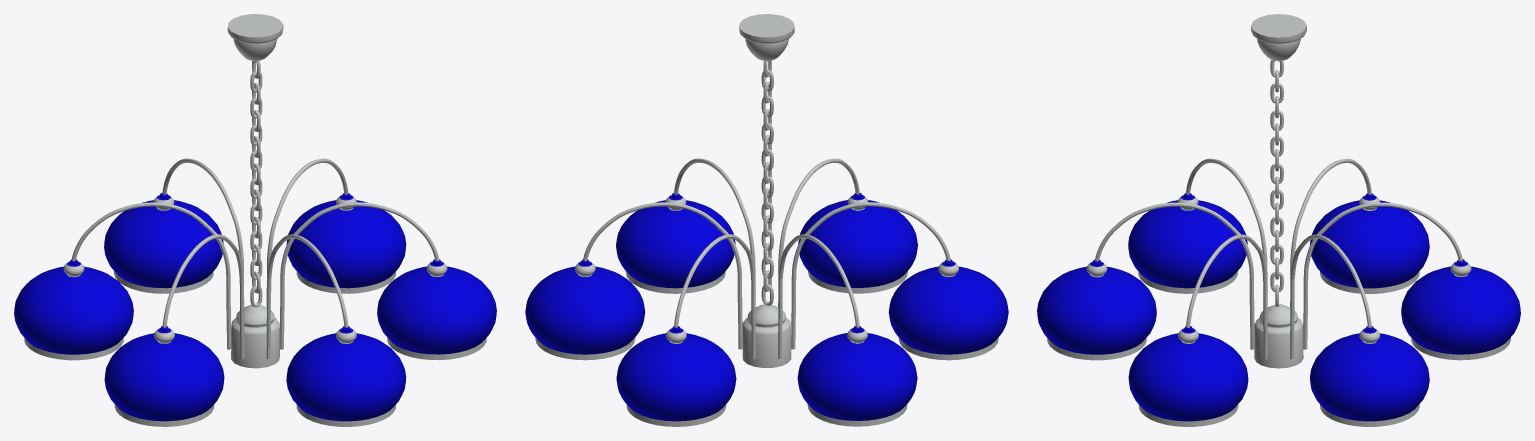
The model's file is Light.fbx.
3 views of the same model, side by side, from view 1: azimuth 30°, elevation 25°; view 2: azimuth 150°, elevation 25°; view 3: azimuth 270°, elevation 25° (orthographic).
Visible parts, largest first — view 1: Lamp.001; view 2: Lamp.001; view 3: Lamp.001.
Part boxes in pixels (box(x1,y1,x2,y2)): Lamp.001: box(14, 14, 496, 426); Lamp.001: box(525, 14, 1008, 426); Lamp.001: box(1037, 14, 1520, 426).
Bounding box in the file's own units: 90.44 × 76.27 × 101.
